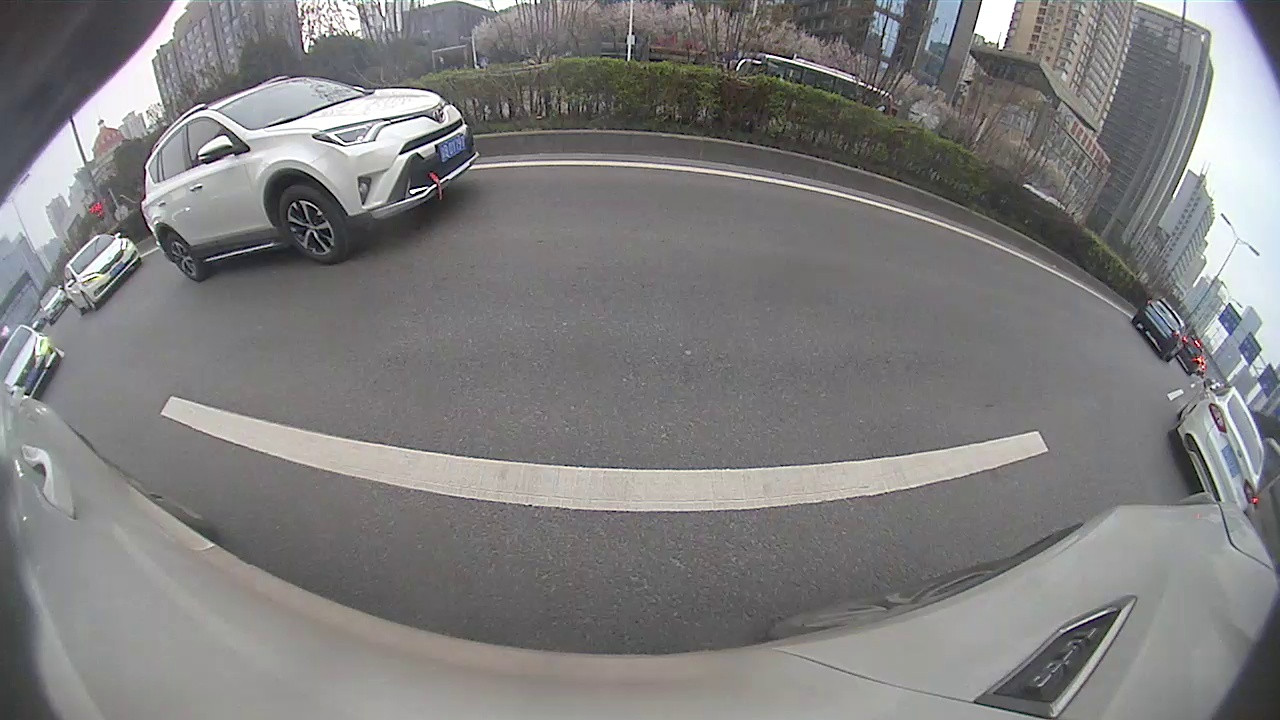bus: (645, 159, 661, 175)
car: (544, 164, 590, 191), (616, 159, 649, 187), (841, 174, 865, 191), (771, 172, 795, 188), (820, 176, 842, 192), (669, 162, 685, 178)
